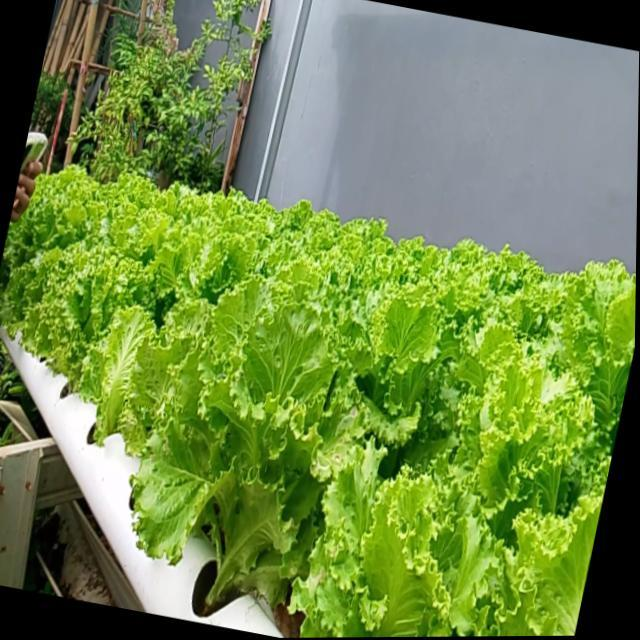Mature: (131, 291, 352, 626), (22, 246, 141, 414)
